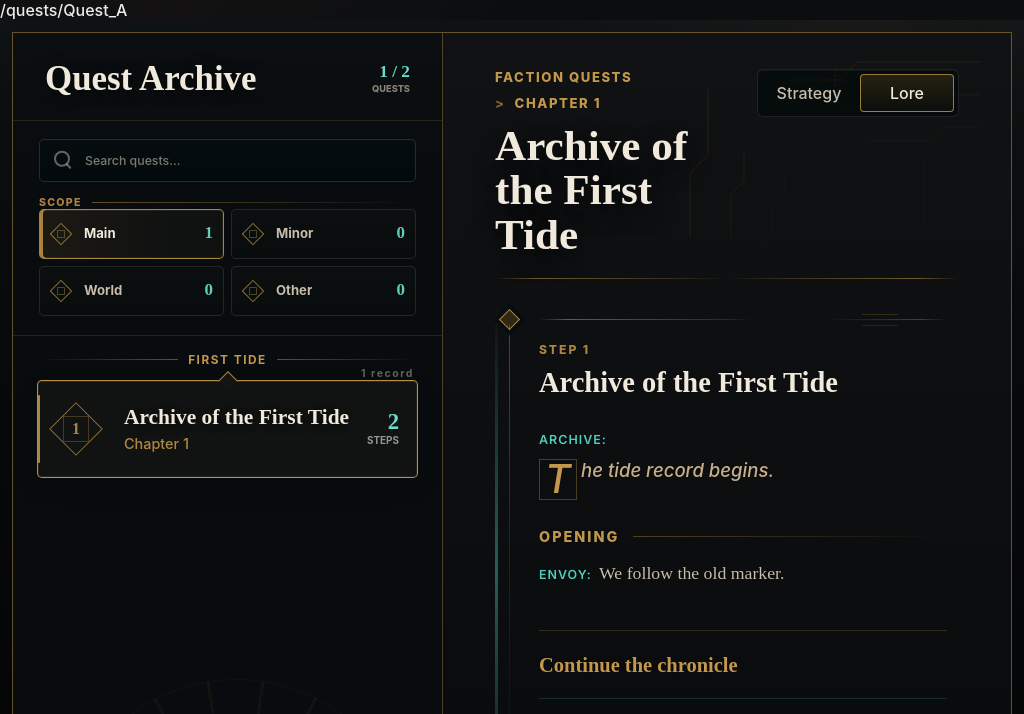
Scenario: QuestExplorerPage Strategy planner behavior › renders one-option strategy mode as a chapter-plan task without choice framing
Expected: the heading "Archive of the First Tide" is shown, top-left (495, 122), bottom-right (687, 258)
Click the button "Strategy": (809, 93) top-left (762, 74), bottom-right (856, 112)
(page scrolled)
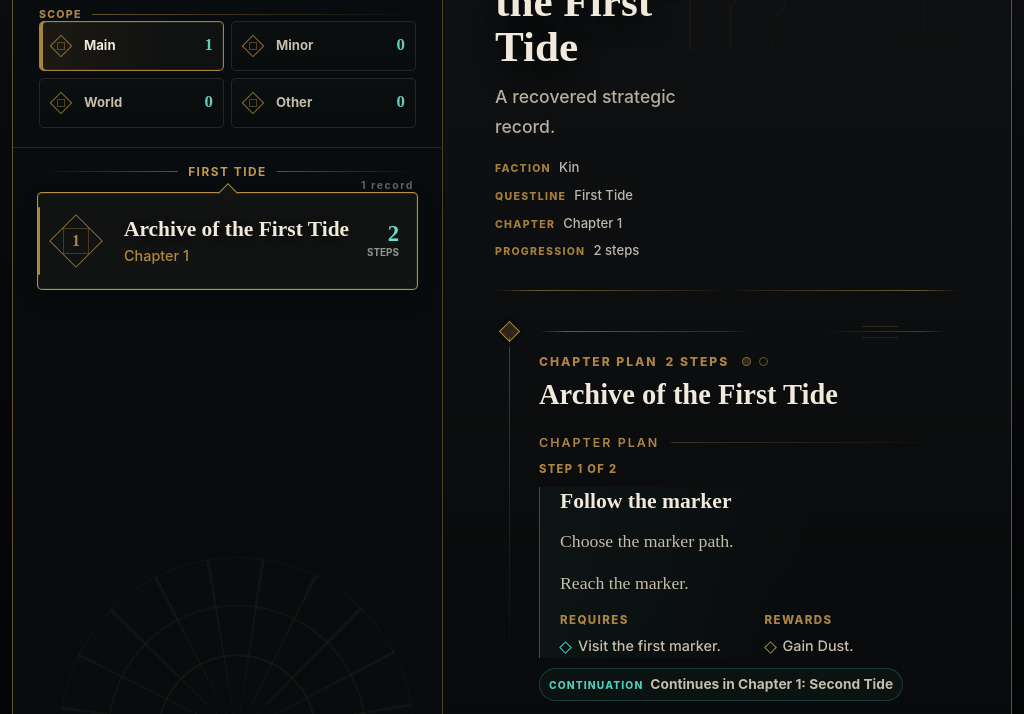
Result: the text "Choose the marker path." is shown at top-left (560, 531), bottom-right (734, 551)
Result: the text "Reach the marker." is shown at top-left (560, 573), bottom-right (689, 593)
Result: the number of list items "Visit the first marker." is 1 at top-left (578, 637), bottom-right (721, 654)
